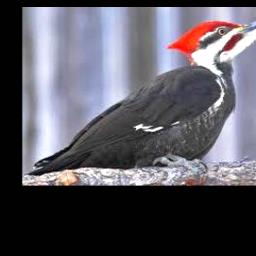Woodpecker: (25, 14, 256, 176)
